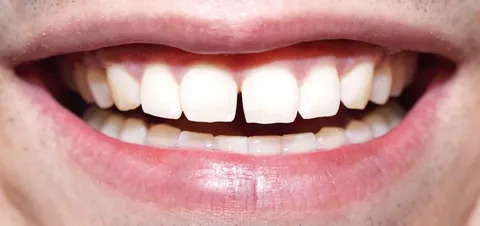Gap: (208, 73, 269, 124)
